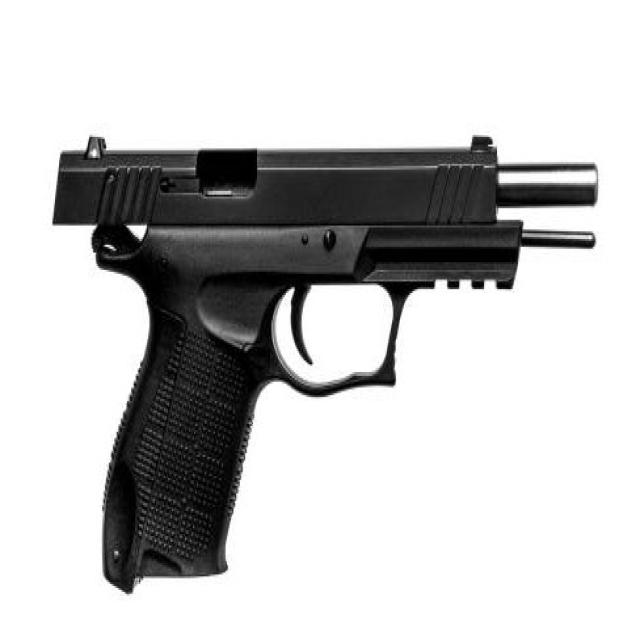pistol: (47, 133, 613, 599)
